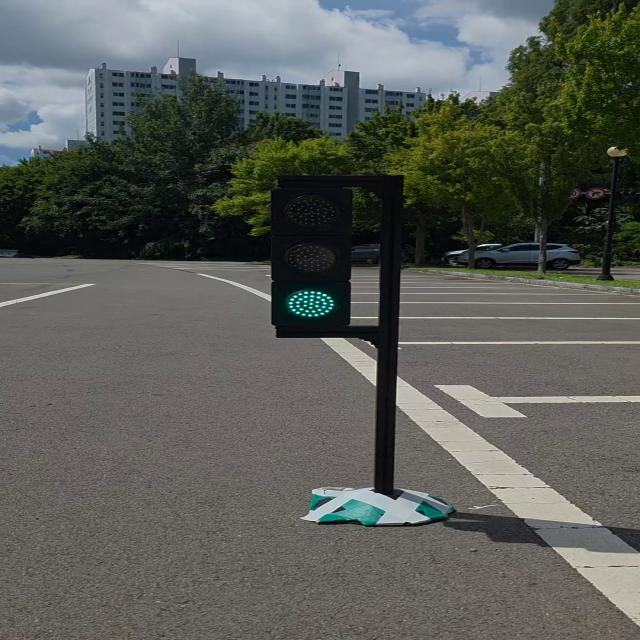green: (274, 183, 356, 334)
